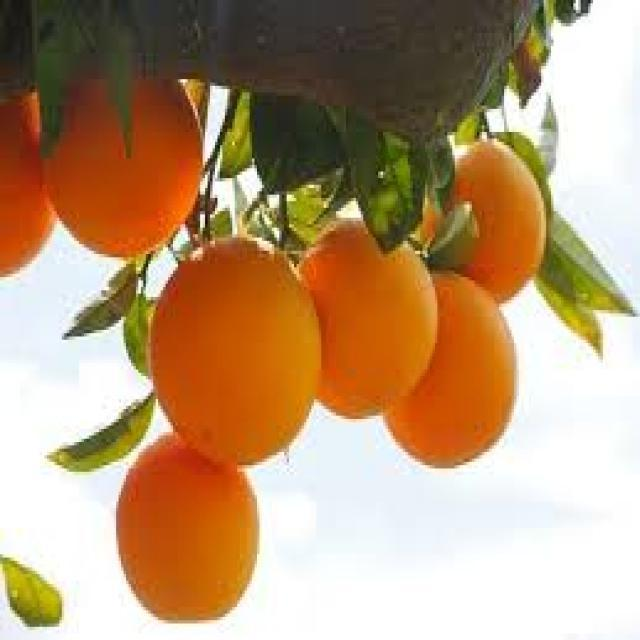Orange: (148, 234, 321, 465), (37, 72, 203, 258), (294, 214, 438, 419), (113, 428, 260, 620), (381, 267, 516, 468), (426, 136, 546, 302), (2, 81, 57, 280)
